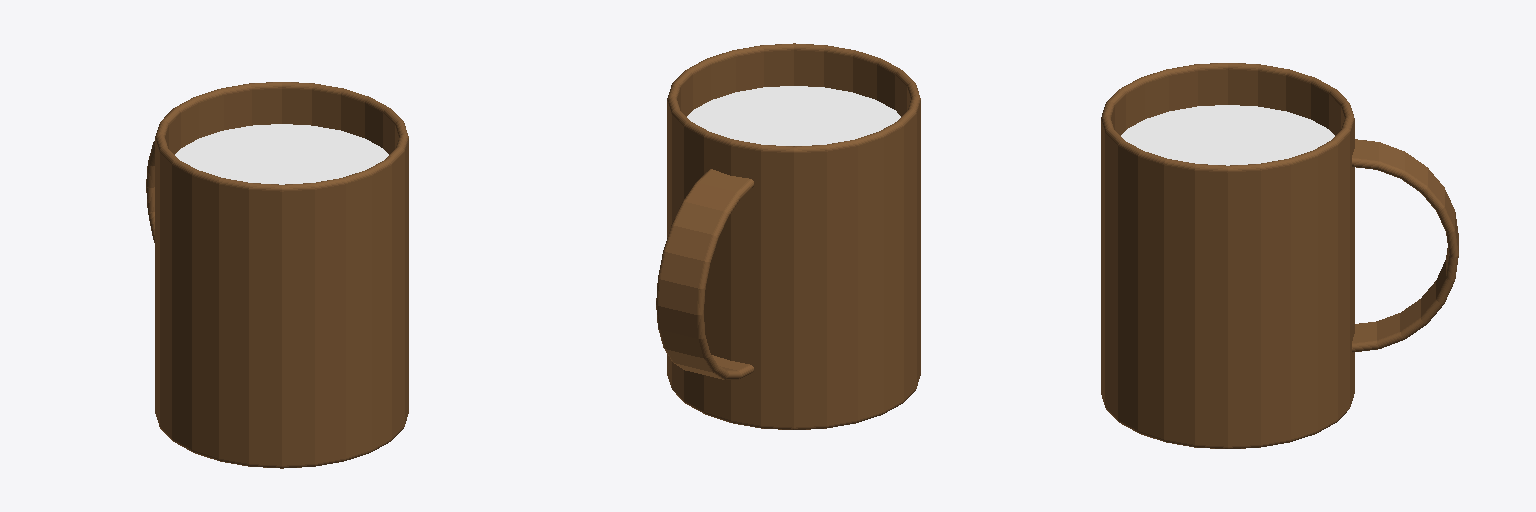
The picture shows the model from 3 angles: view 1: azimuth 30°, elevation 25°; view 2: azimuth 150°, elevation 25°; view 3: azimuth 270°, elevation 25°; orthographic projection.
Visible parts, largest first — view 1: model_normalized; view 2: model_normalized; view 3: model_normalized.
Part boxes in pixels (x1,y1,x2,y2): model_normalized: (146,82,408,468); model_normalized: (656,43,920,429); model_normalized: (1101,63,1458,448).
Bounding box in the file's own units: 0.4711 × 0.5798 × 0.6647.